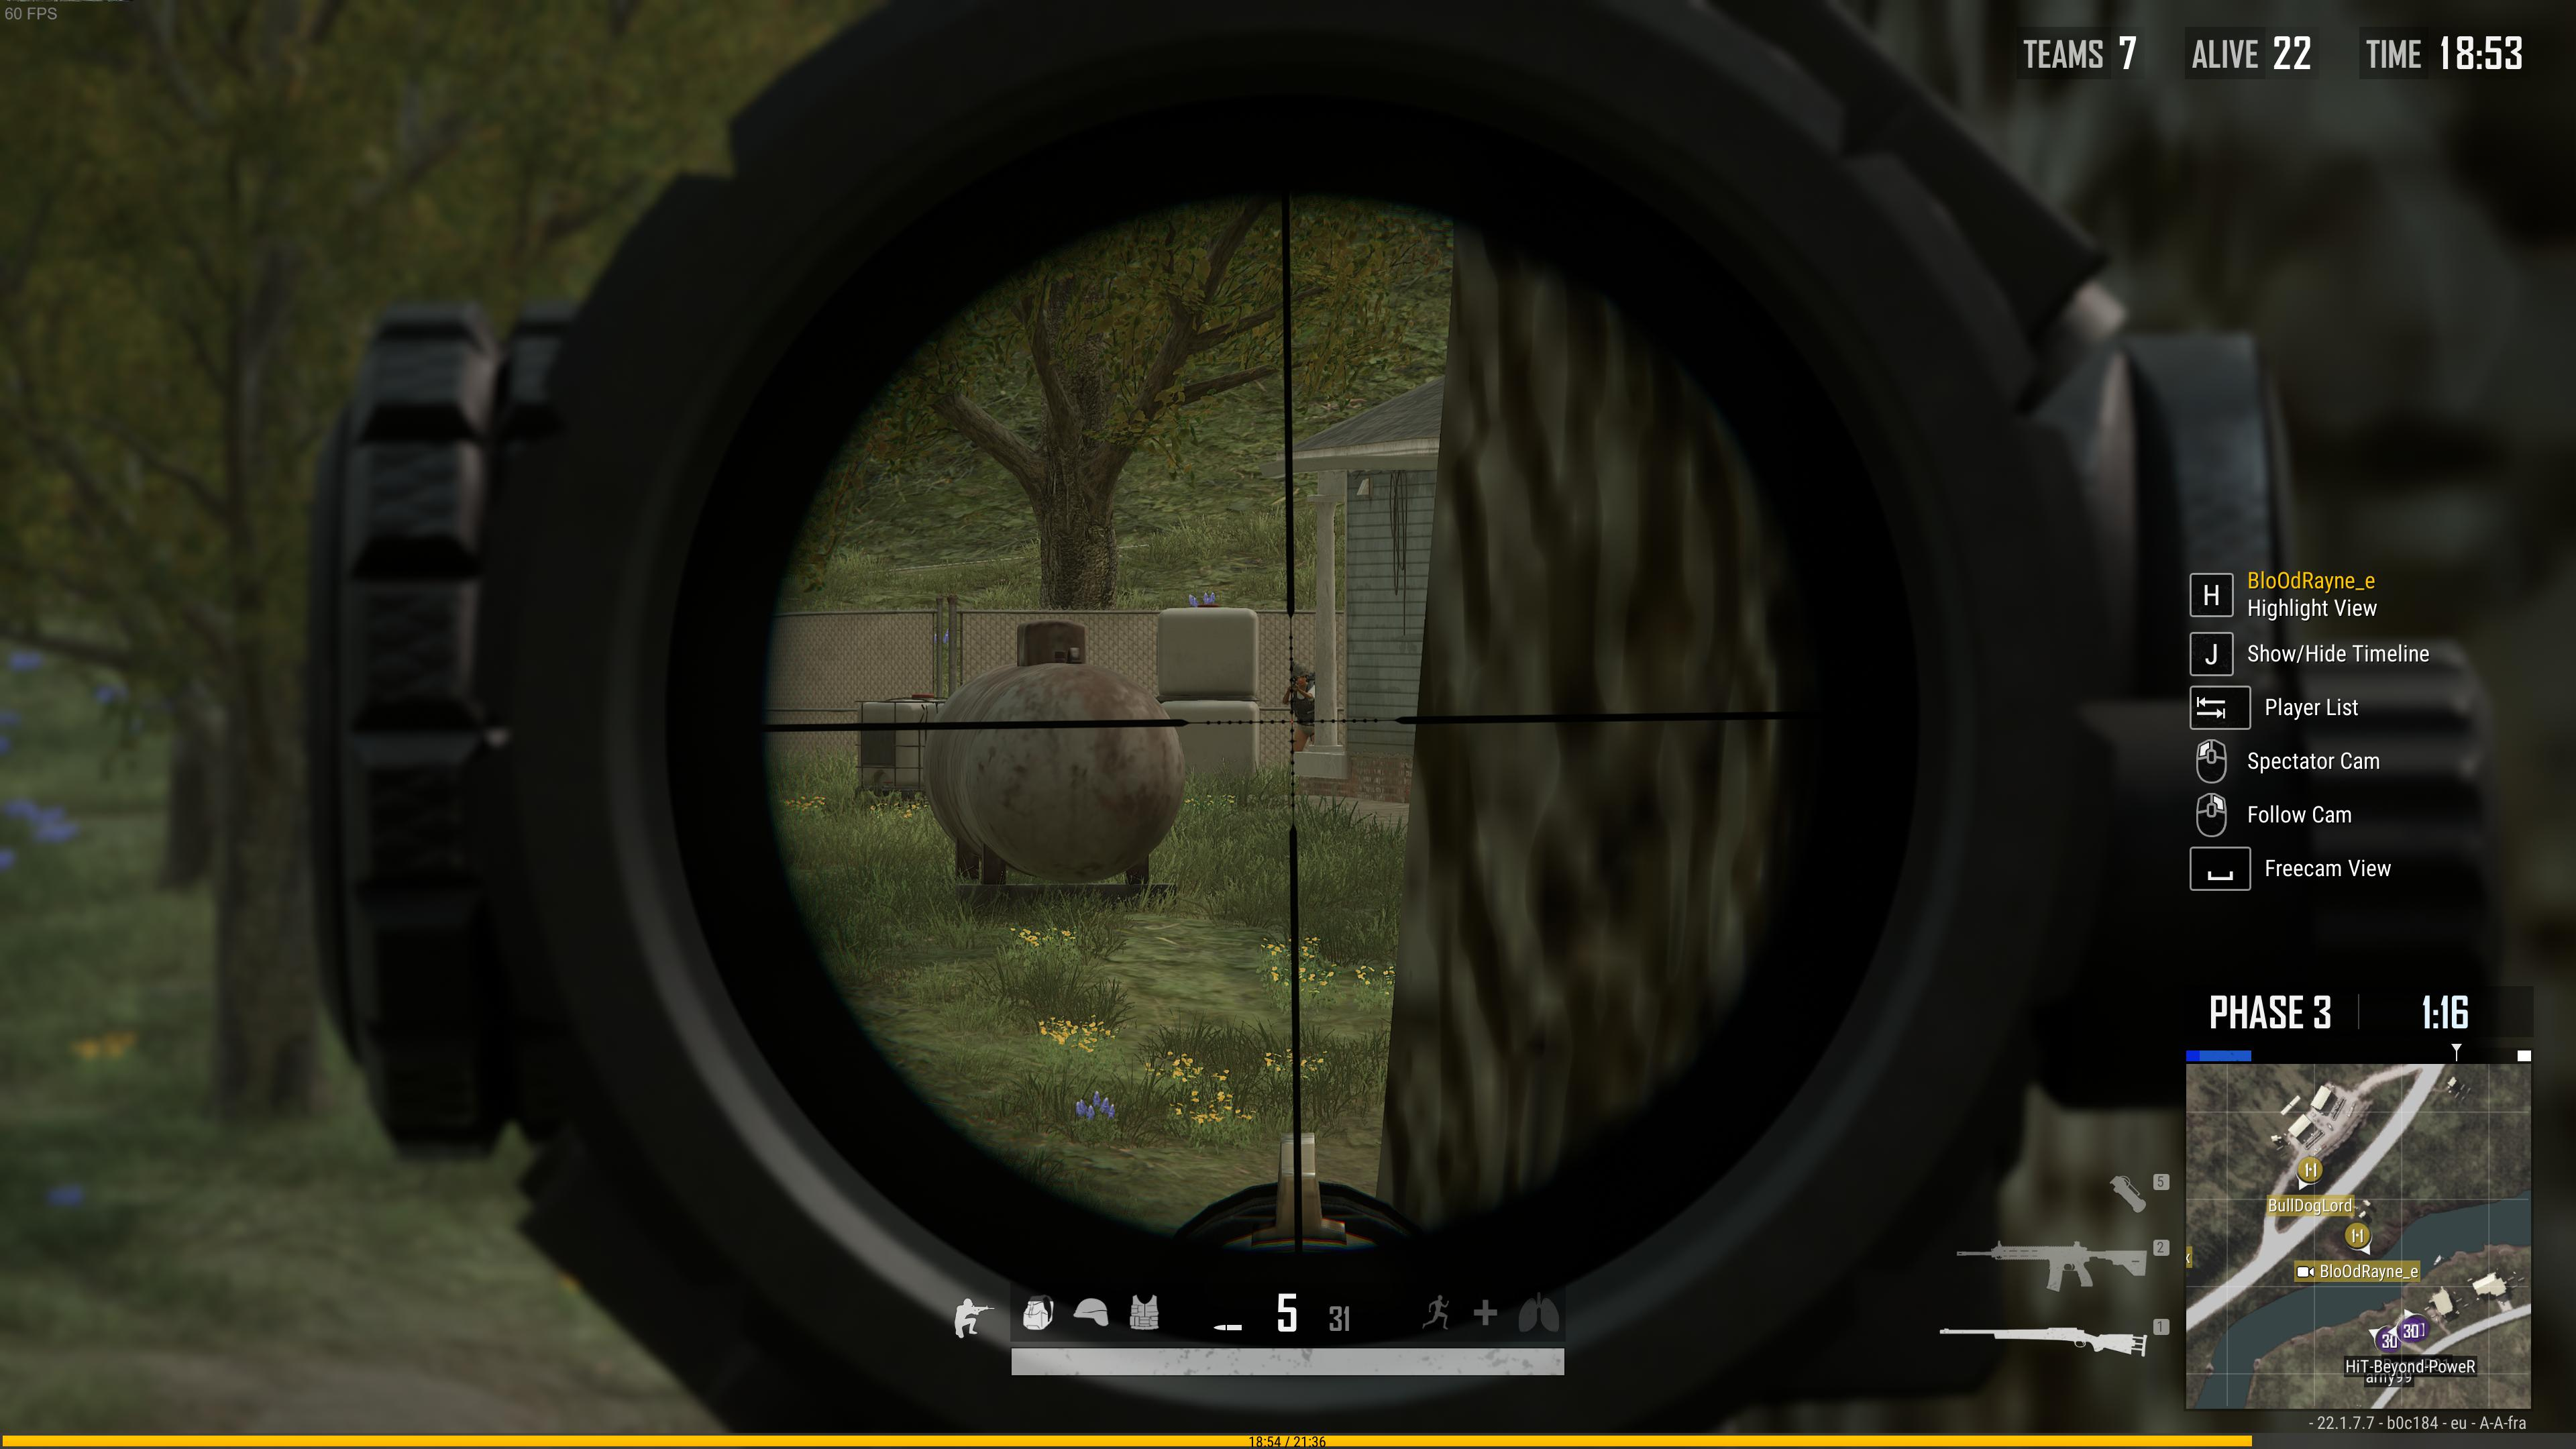enemy: (1281, 660, 1315, 766)
enemy_head: (1292, 663, 1309, 686)
